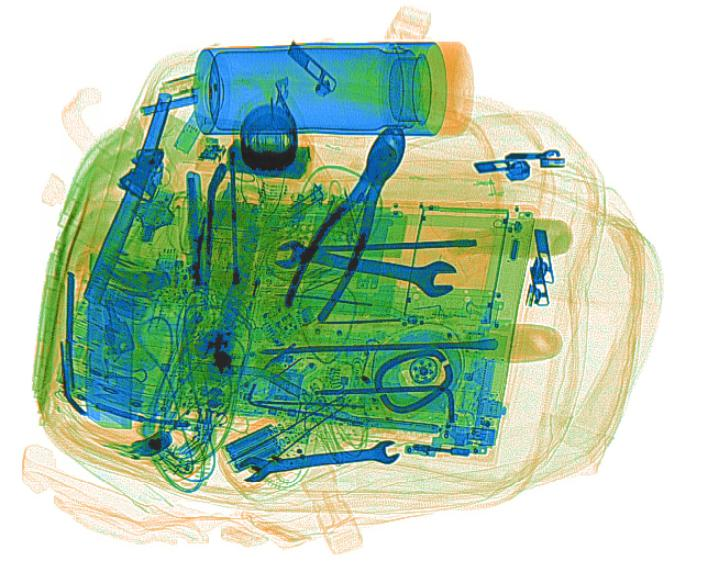USBFlashDisk: (174, 108, 209, 154)
battery: (222, 423, 285, 475), (130, 429, 175, 457)
